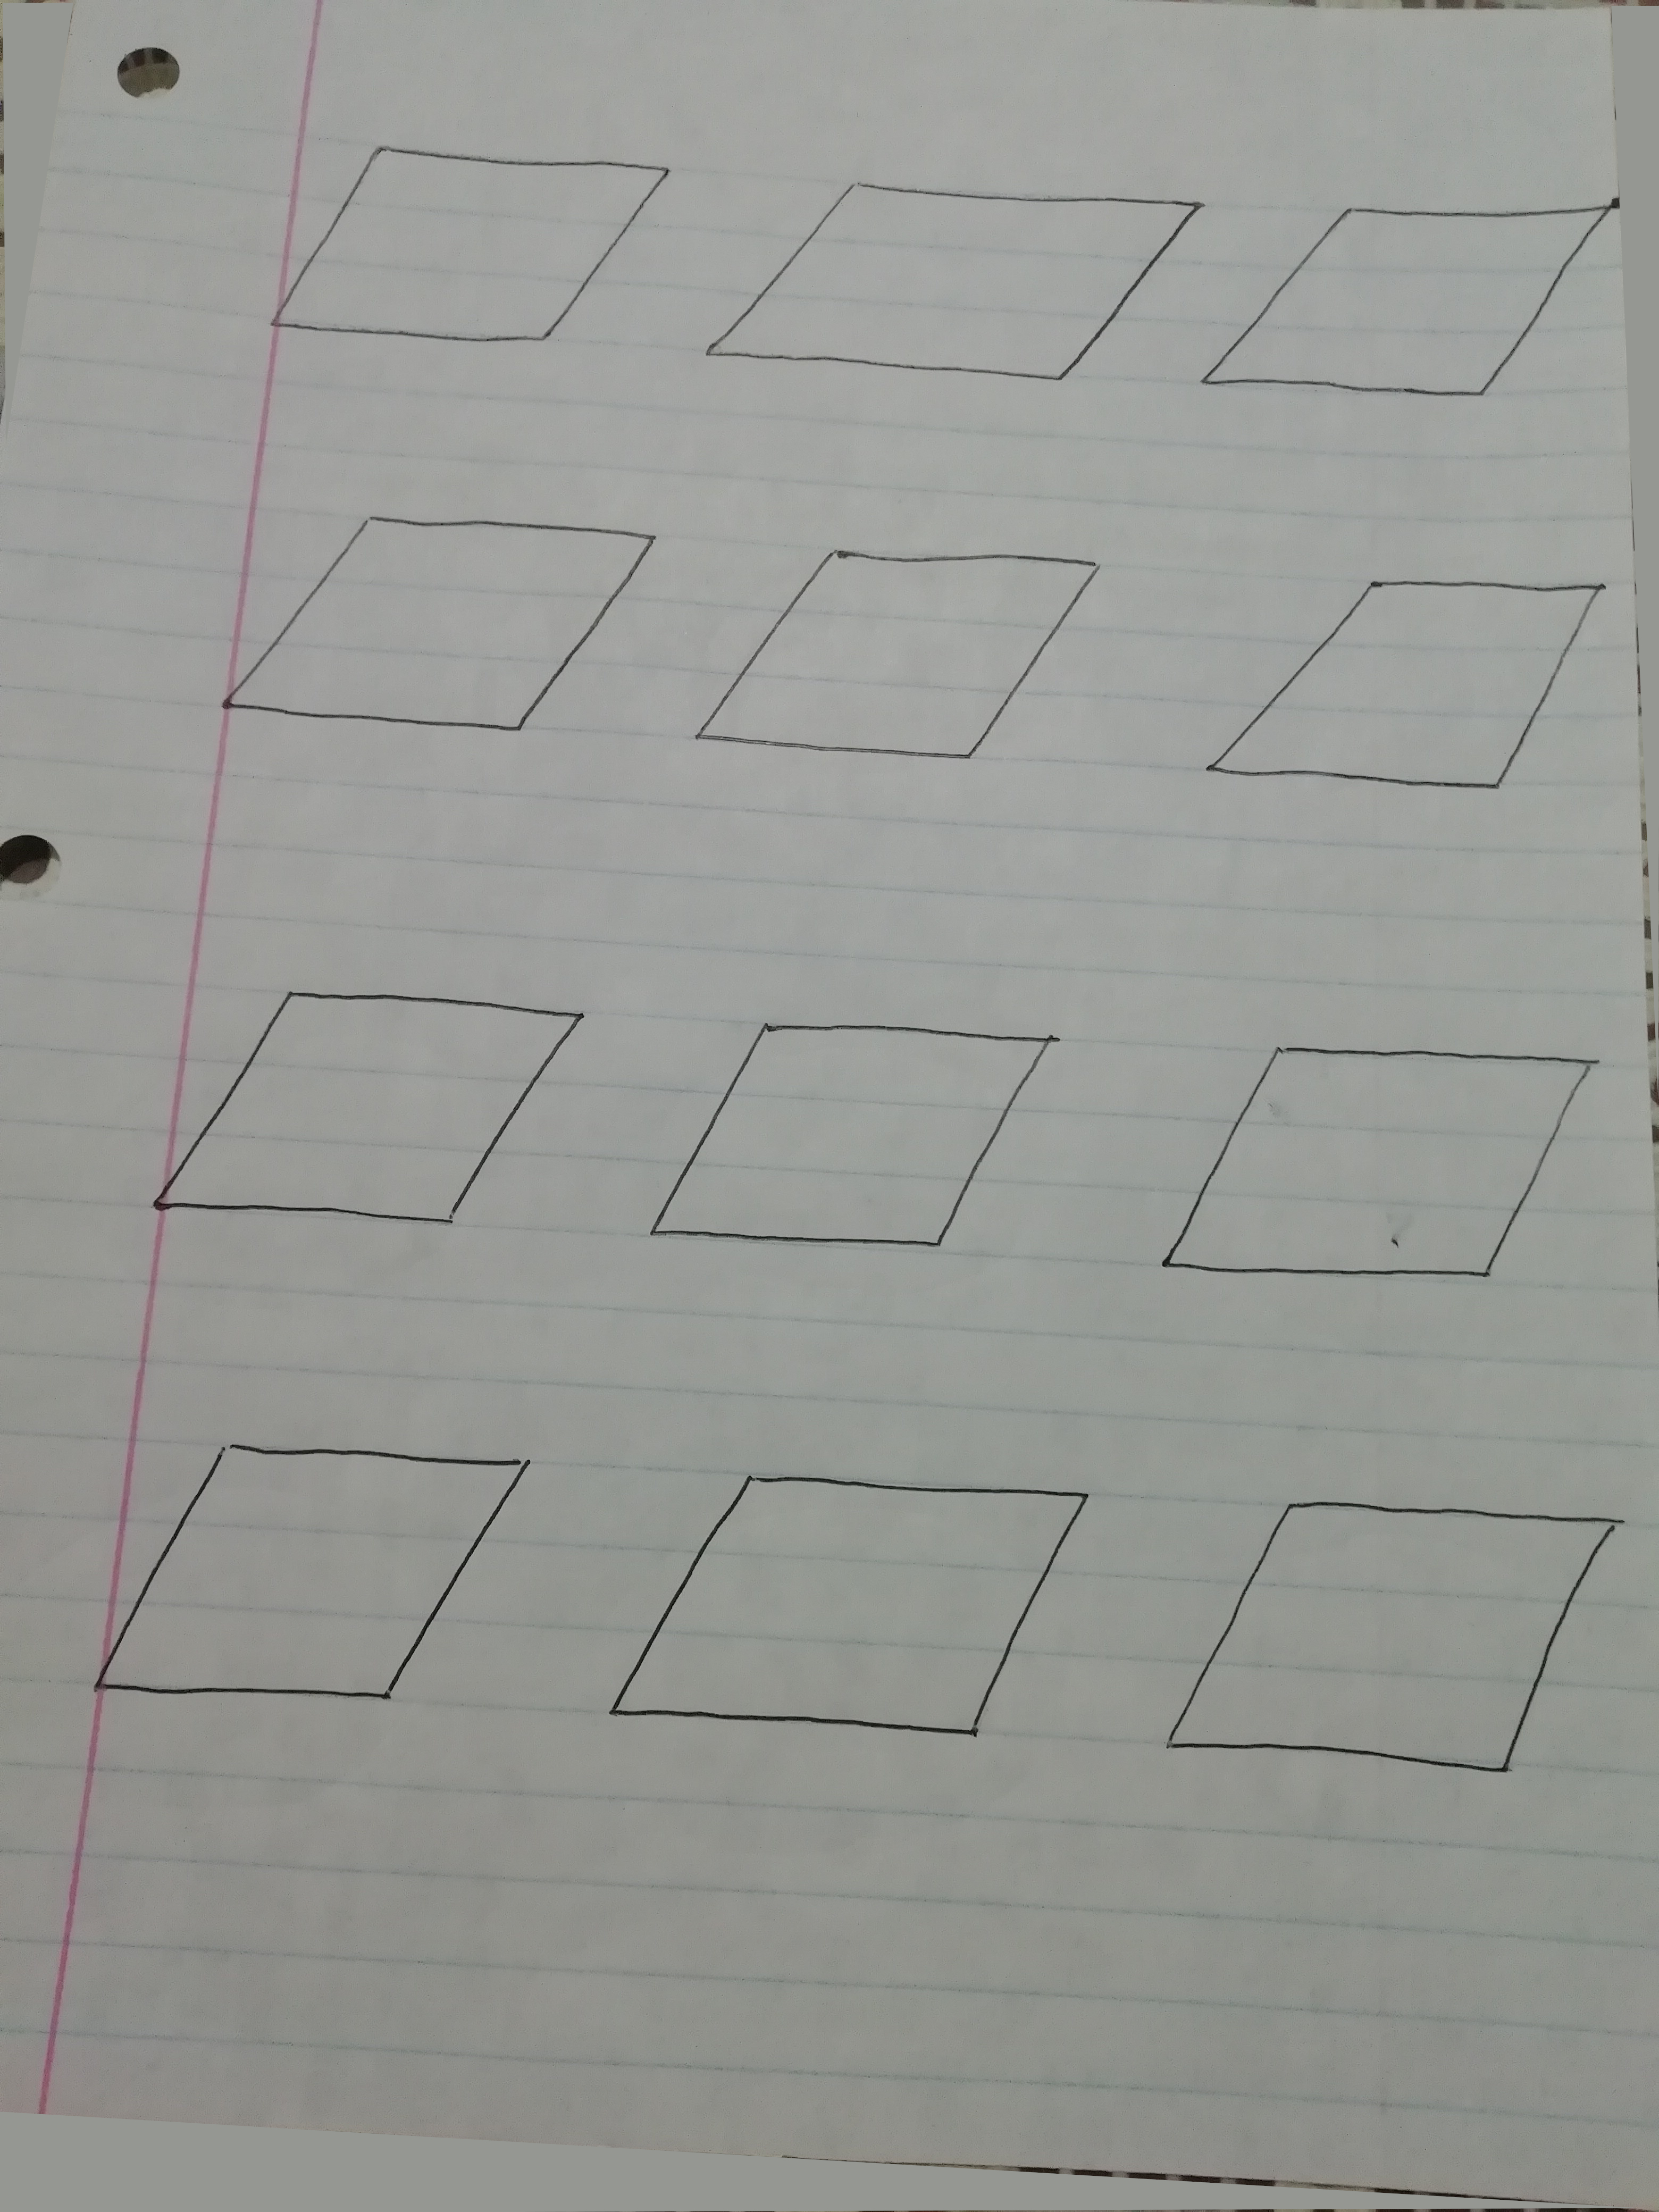scan: (572, 1432, 1108, 1797), (44, 1404, 551, 1787), (1129, 1453, 1640, 1811), (91, 942, 601, 1294), (186, 475, 676, 798), (1150, 1007, 1619, 1339), (1164, 514, 1633, 836), (640, 986, 1079, 1312), (678, 493, 1122, 805), (239, 99, 688, 404), (704, 162, 1204, 390), (1197, 185, 1624, 421)
